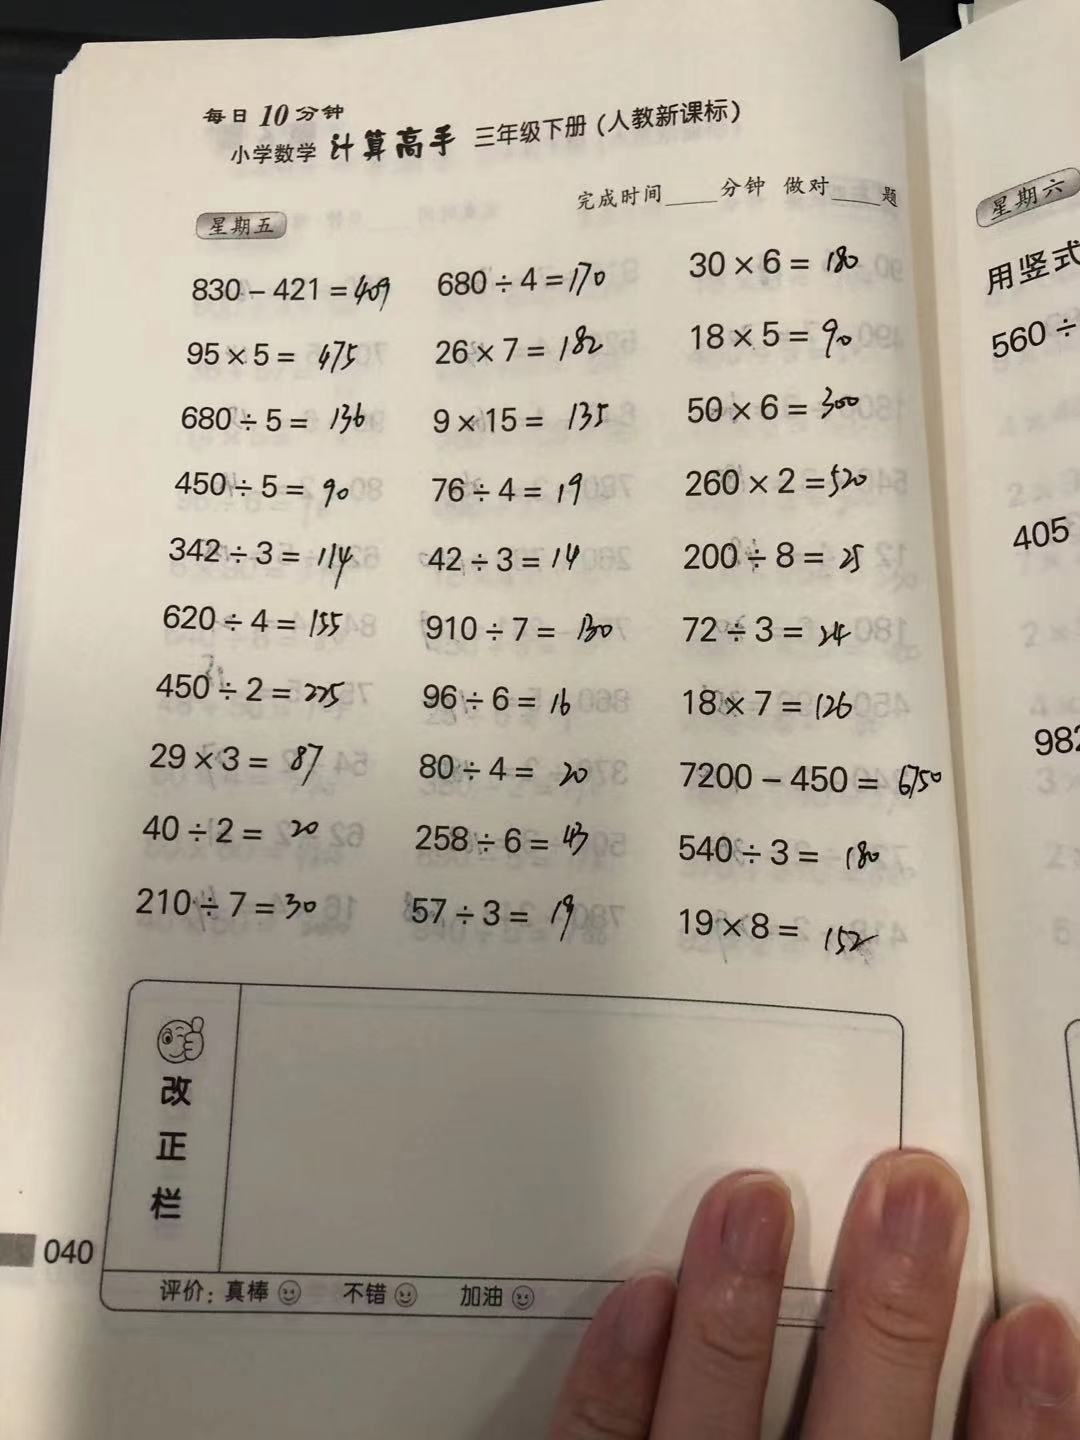equation: (664, 749, 959, 812), (651, 903, 901, 968), (397, 884, 627, 947), (168, 461, 433, 515), (176, 259, 414, 317), (661, 827, 905, 882), (170, 398, 410, 452), (141, 664, 376, 719), (663, 381, 885, 438), (659, 455, 893, 508), (127, 879, 341, 935), (150, 532, 374, 585), (653, 678, 881, 730), (400, 607, 631, 658), (124, 805, 341, 858), (142, 595, 373, 645), (144, 738, 353, 793), (404, 742, 616, 795), (428, 317, 617, 376), (174, 336, 390, 384), (670, 310, 871, 362), (410, 676, 611, 727), (667, 238, 876, 287), (676, 535, 881, 584), (661, 607, 874, 653), (407, 815, 617, 862), (427, 399, 636, 439), (410, 535, 616, 575), (427, 464, 607, 508), (430, 262, 619, 300)
